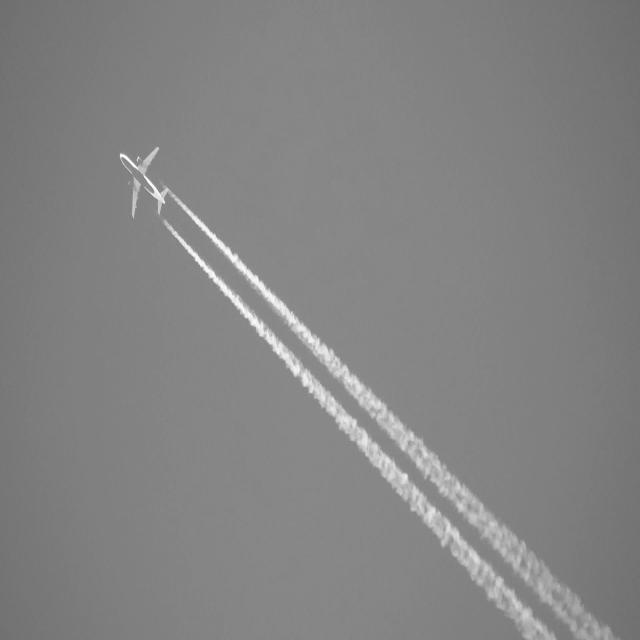aeroplane: (119, 144, 172, 218)
